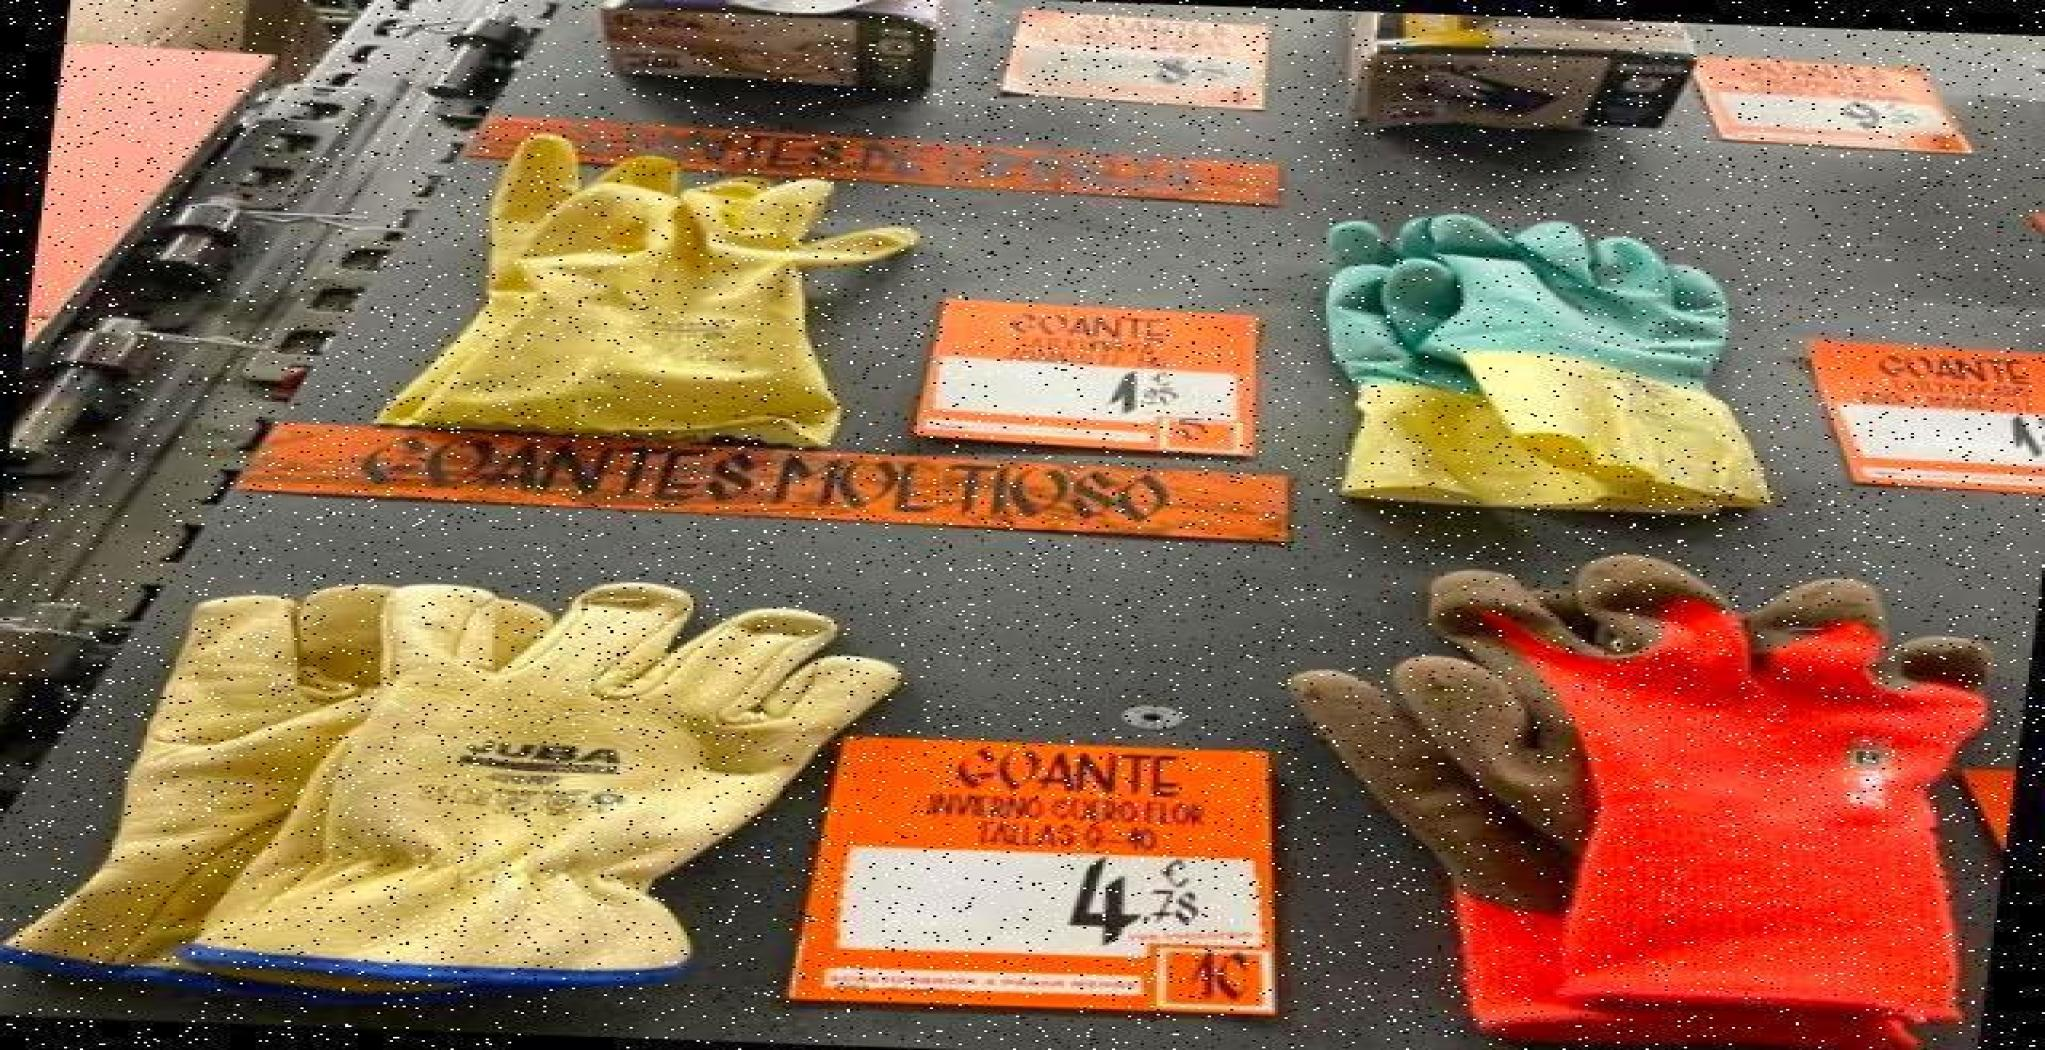gloved: (178, 569, 845, 988), (1343, 616, 1991, 1030), (1318, 210, 1789, 550), (479, 126, 896, 449)
